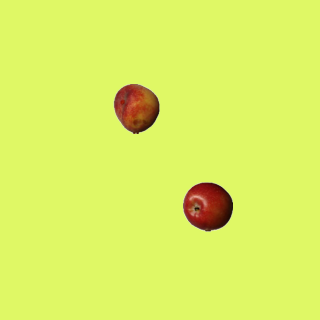Apple Braeburn: (182, 181, 232, 231)
Peach: (111, 83, 161, 133)
